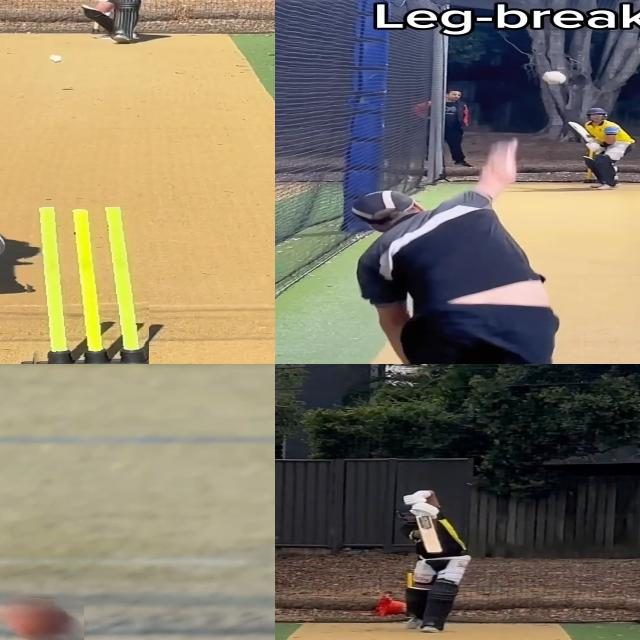Cricket ball: (0, 595, 84, 640), (541, 69, 568, 84), (47, 53, 65, 63)
Stumps: (19, 206, 149, 364)
